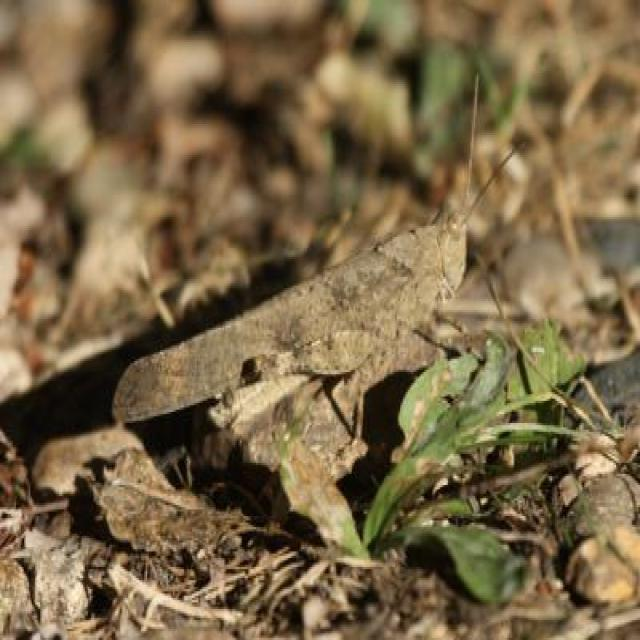antennae: (455, 150, 519, 225), (456, 75, 482, 220)
body: (226, 206, 469, 393)
insect: (105, 72, 528, 426)
legs: (254, 338, 380, 434), (418, 318, 492, 367)
wings: (112, 238, 412, 424)
